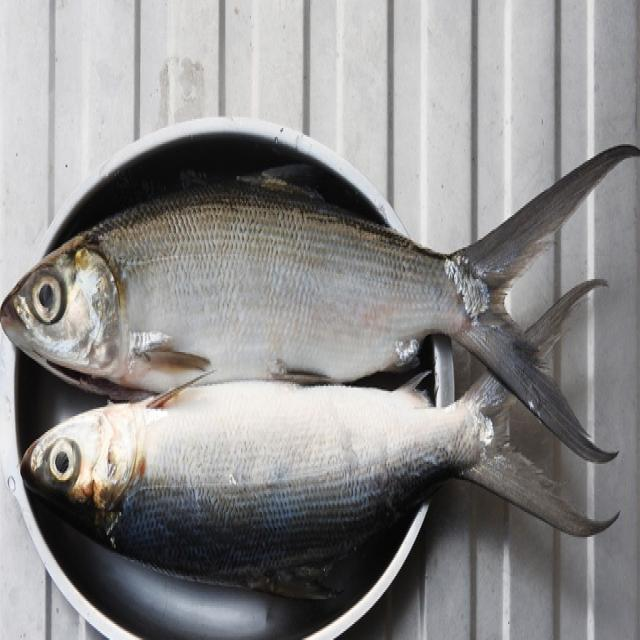Bangus: (0, 110, 640, 396)
